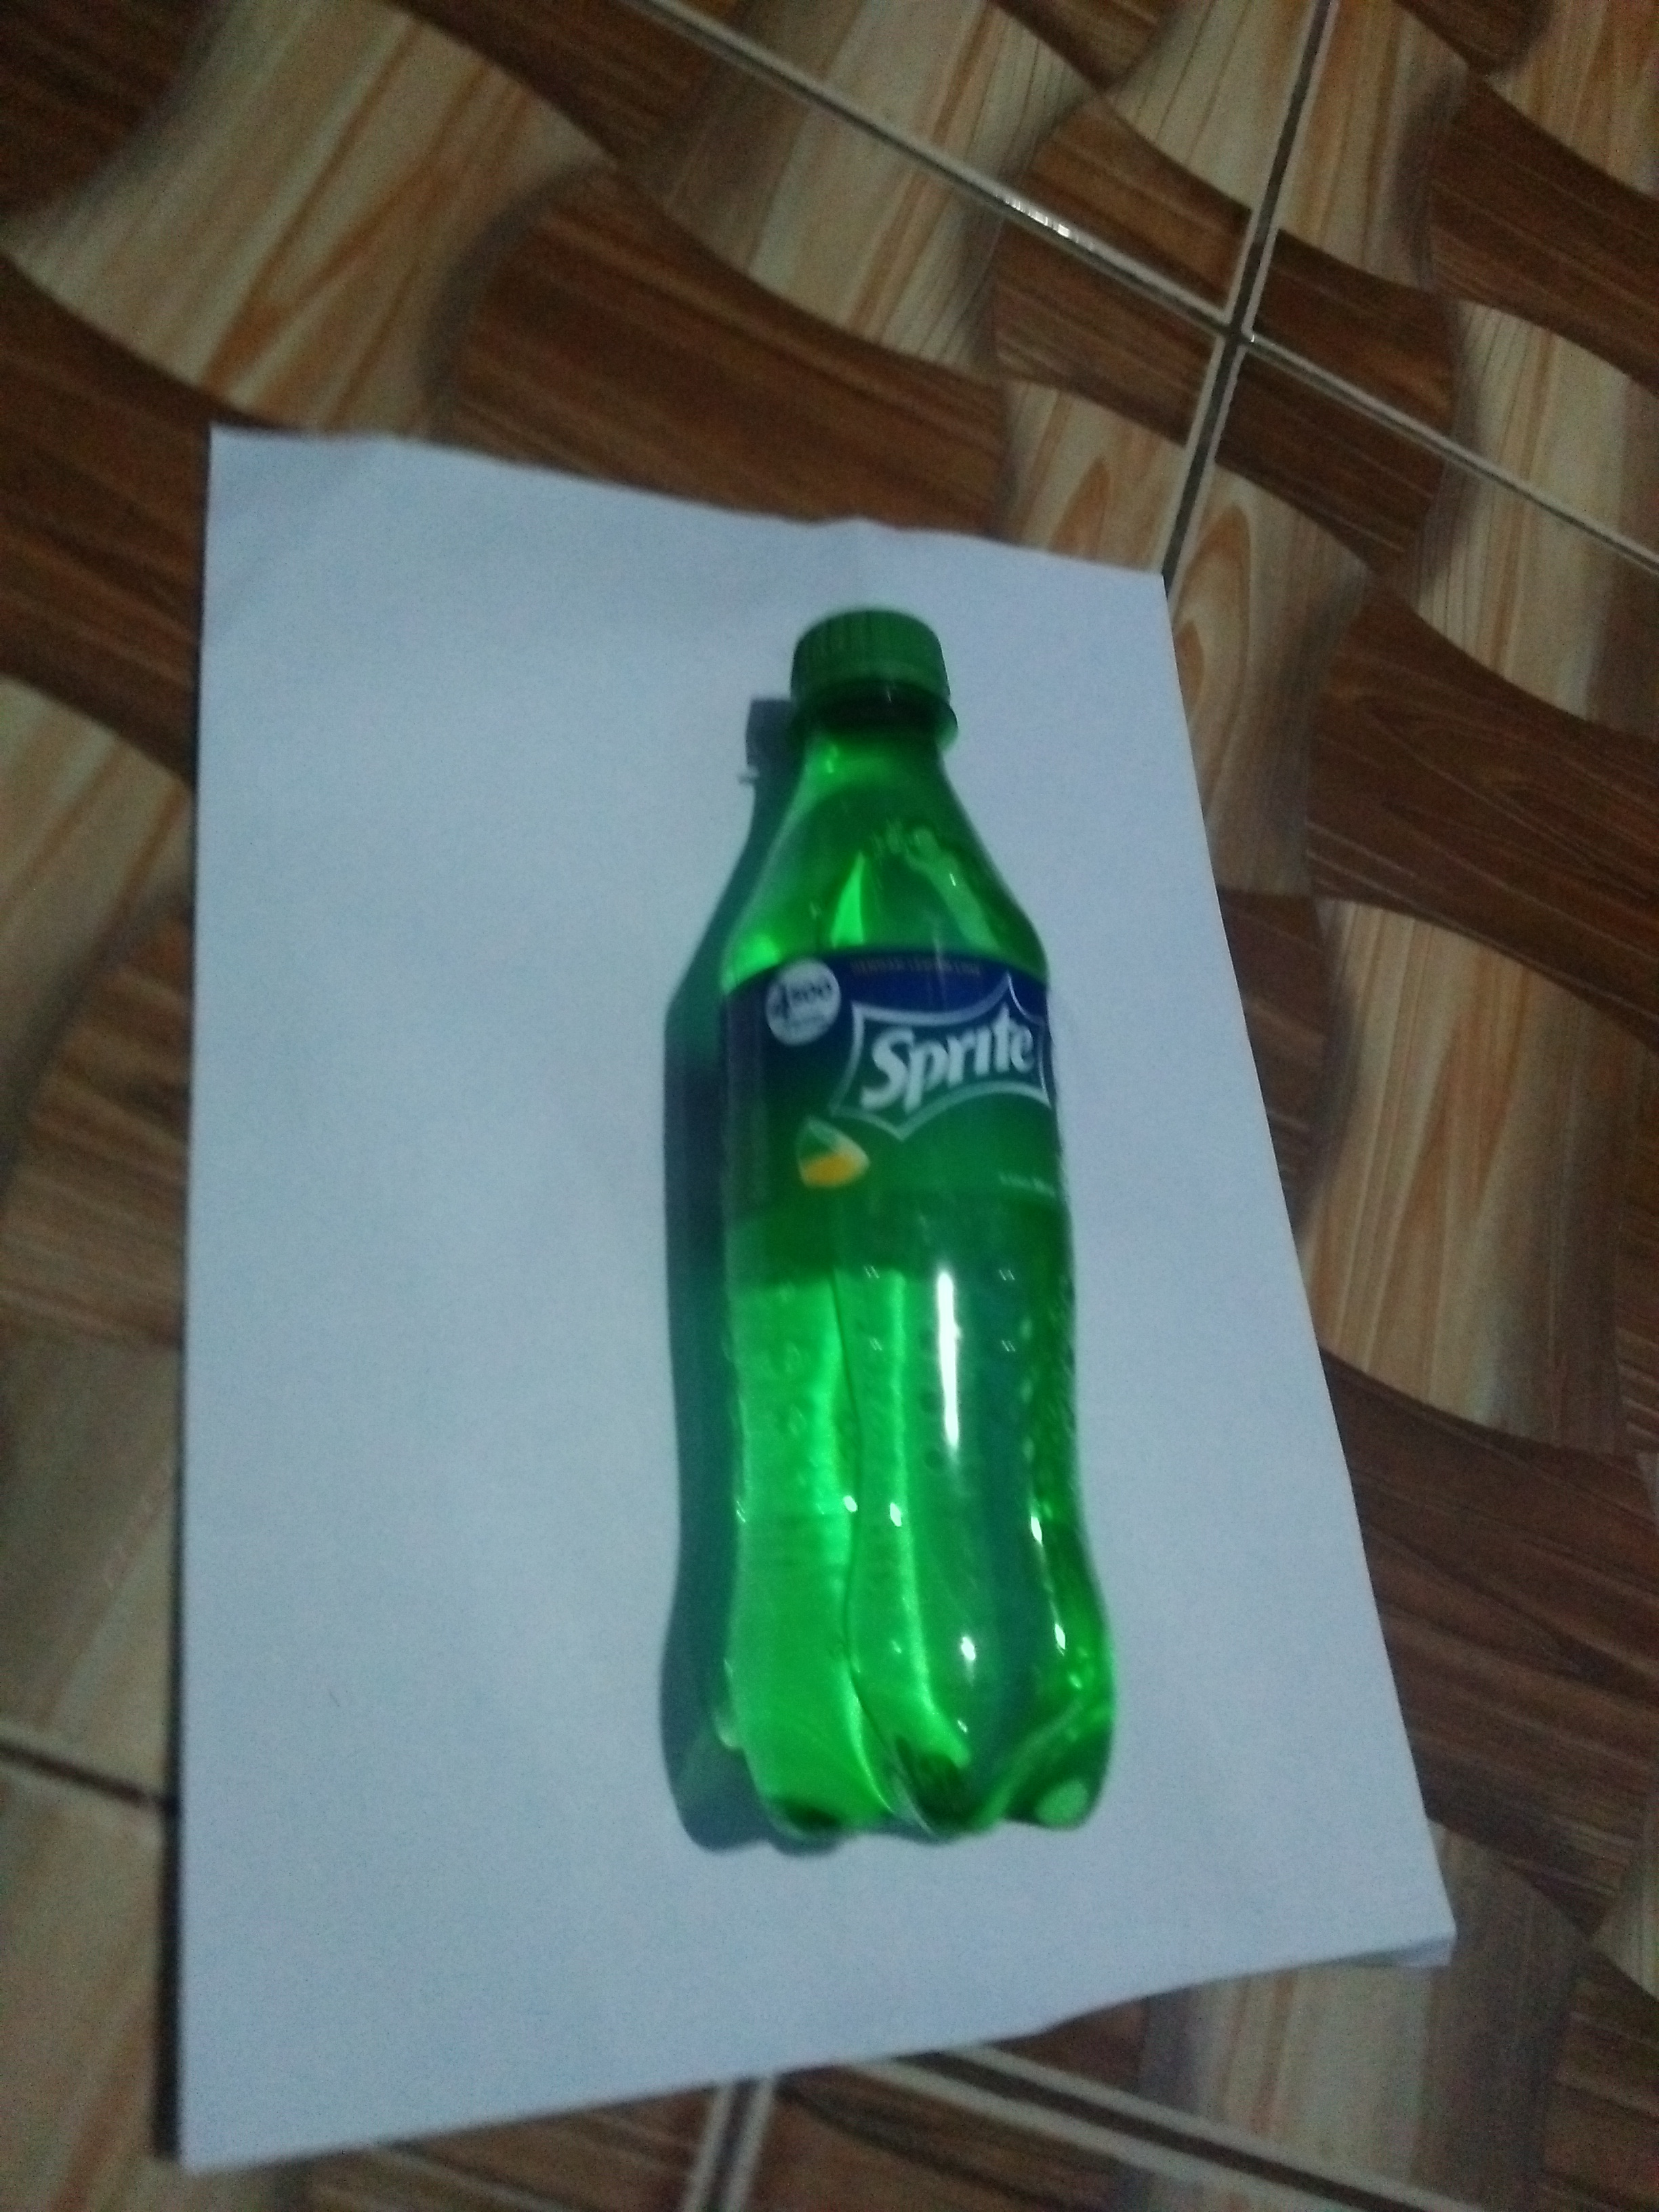Sprite: (673, 580, 1147, 1858)
